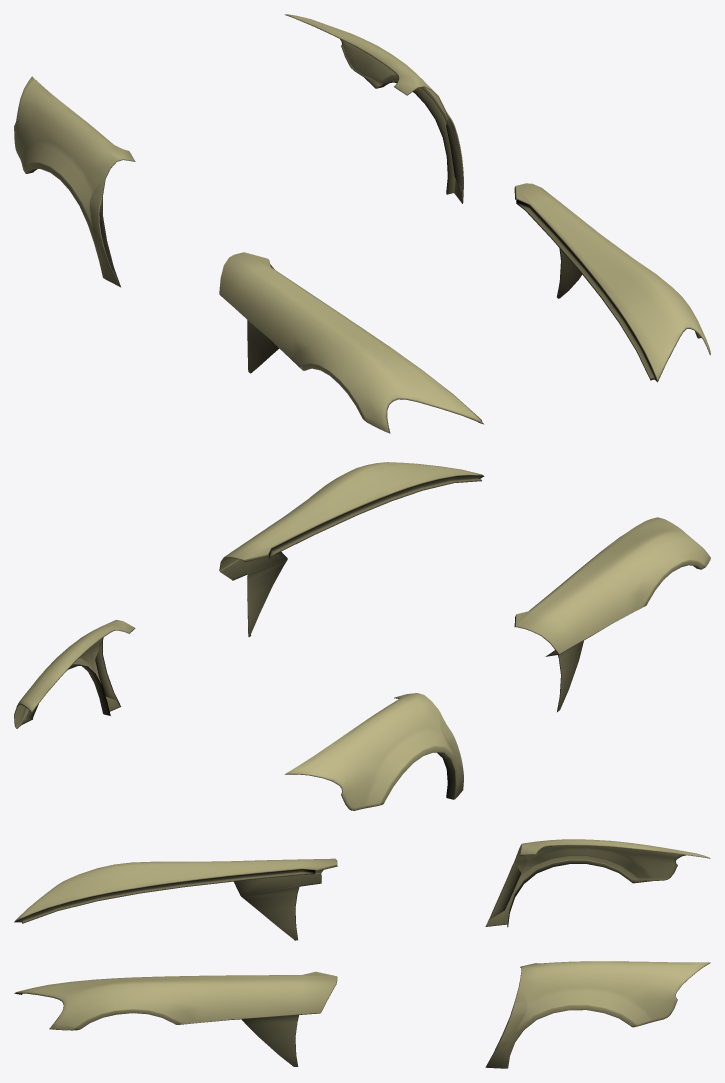
Rendered from Viper_Fender_03_Duco.fbx.
3 renders of one model, top to bottom at view 1: azimuth 30°, elevation 25°; view 2: azimuth 150°, elevation 25°; view 3: azimuth 270°, elevation 25°, orthographic. The views are drawn at different scales.
Parts seen in each view (by area): view 1: Viper_Fender_03_Duco; view 2: Viper_Fender_03_Duco; view 3: Viper_Fender_03_Duco.
Part boxes in pixels (x1,y1,x2,y2): Viper_Fender_03_Duco: (14,14,710,433); Viper_Fender_03_Duco: (14,462,710,810); Viper_Fender_03_Duco: (14,839,710,1068).
Size of the model in its own units: 197 by 62.49 by 386.
